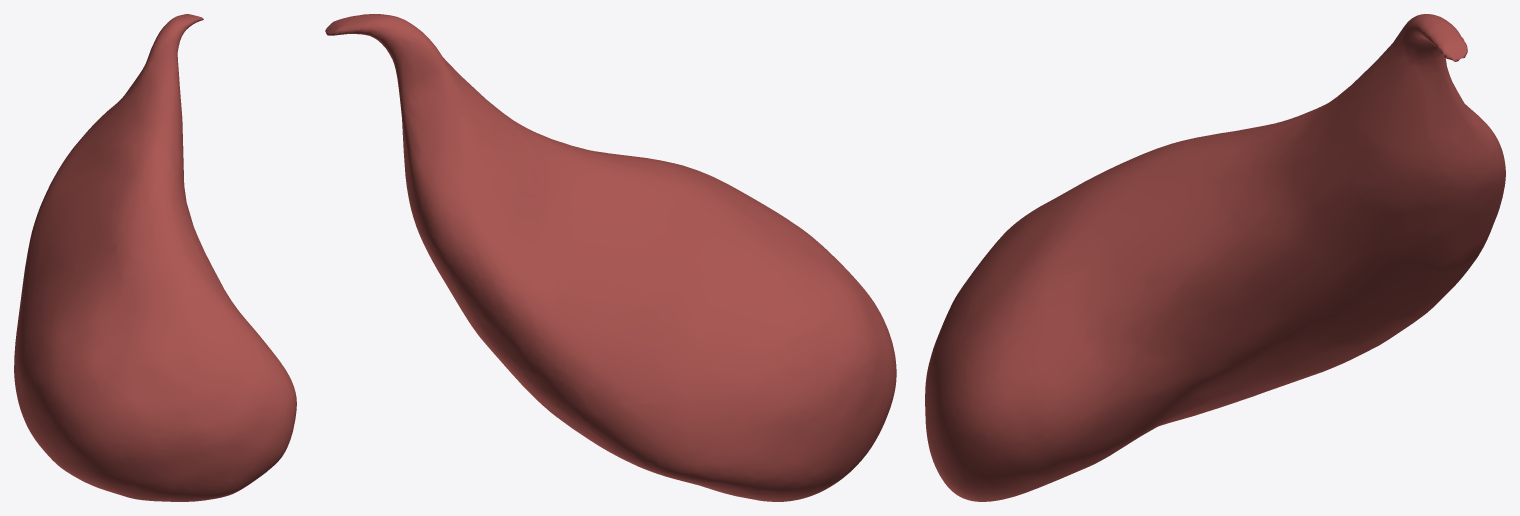
The model's file is FMA7202.glb.
The picture shows the model from 3 angles, left to right: view 1: azimuth 30°, elevation 25°; view 2: azimuth 150°, elevation 25°; view 3: azimuth 270°, elevation 25°; orthographic projection. The views are drawn at different scales.
Parts seen in each view (by area): view 1: FMA7202; view 2: FMA7202; view 3: FMA7202.
Part boxes in pixels (x1,y1,x2,y2): FMA7202: (14,14,296,501); FMA7202: (325,14,896,501); FMA7202: (925,14,1505,501).
Size of the model in its own units: 0.0359 by 0.046 by 0.0435.
